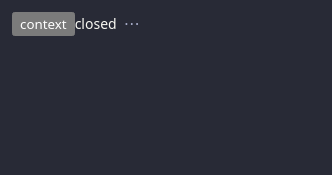
Scenario: CardMenu › runs the selected item and closes
Click the button named "Task actions": (132, 23) [117,11,147,35]
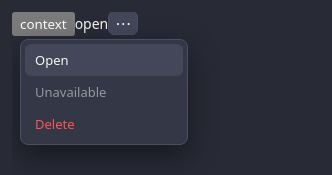
Click the menu item "Open": (104, 60) [25,44,183,76]
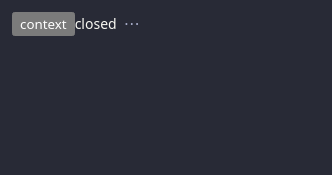
Check: the menu is gone
